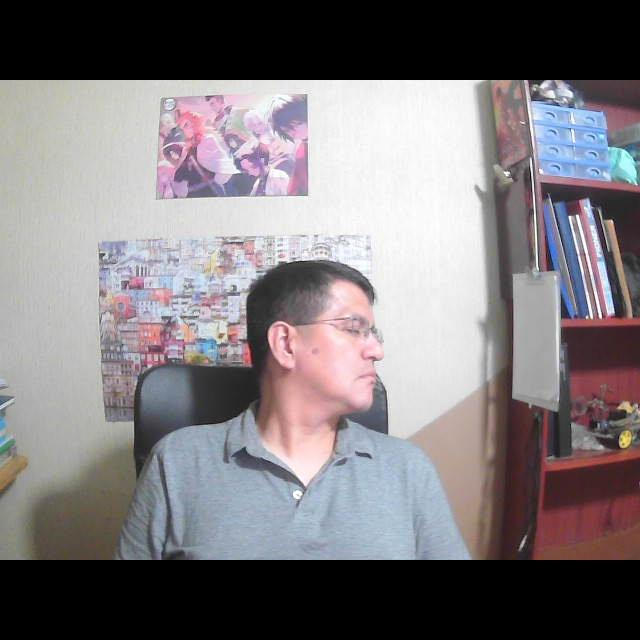cesar: (233, 239, 401, 449)
